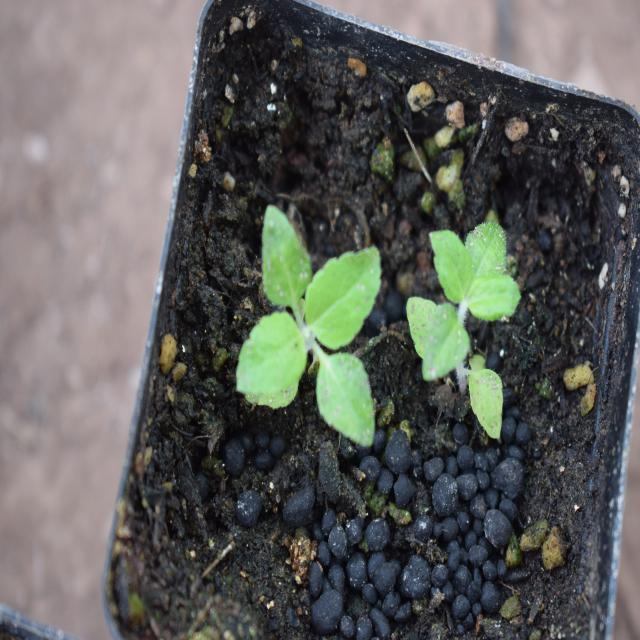billygoat_weed: (241, 204, 385, 468), (404, 198, 516, 423)
